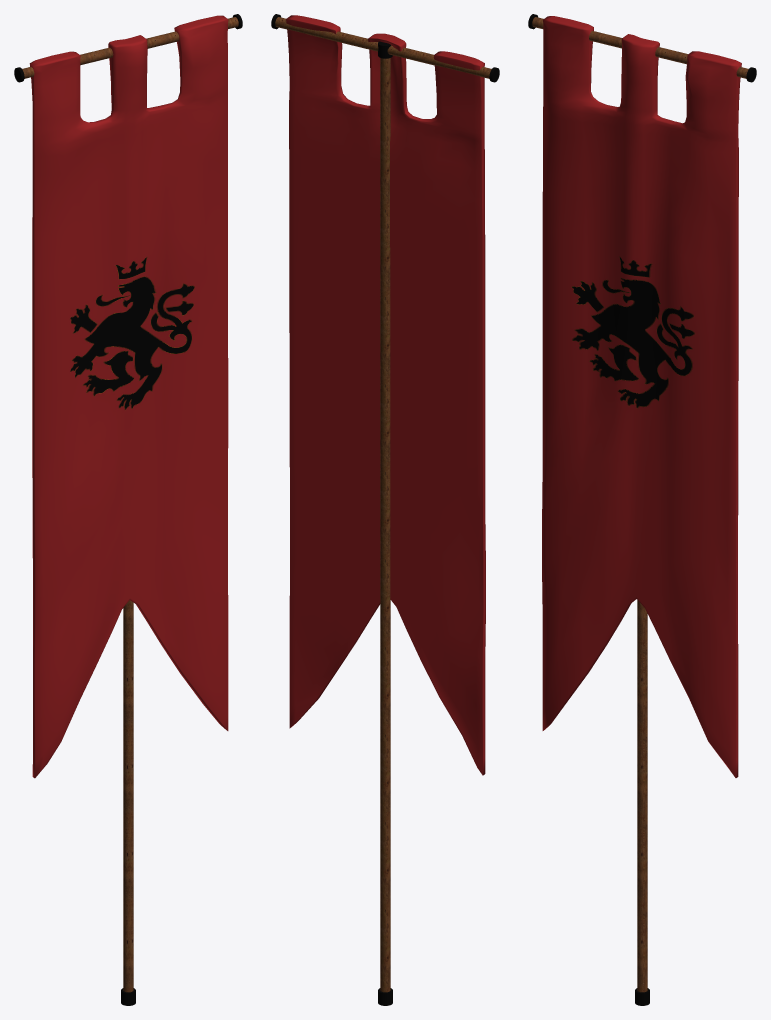
Rendered from main_flag_001.fbx.
3 views of the same model, side by side, from view 1: azimuth 30°, elevation 25°; view 2: azimuth 150°, elevation 25°; view 3: azimuth 330°, elevation 25° (orthographic).
Visible parts, largest first — view 1: cloth3, pCylinder1, flag:building:alexandriaRender:alexandria:pCylinder1; view 2: cloth3, pCylinder1, flag:building:alexandriaRender:alexandria:pCylinder1; view 3: cloth3, pCylinder1, flag:building:alexandriaRender:alexandria:pCylinder1.
Boxes of the visible parts, x1,y1,x2,y2 form: cloth3: [29, 15, 228, 778]; pCylinder1: [121, 600, 135, 1005]; flag:building:alexandriaRender:alexandria:pCylinder1: [14, 14, 242, 82]; cloth3: [286, 15, 485, 775]; pCylinder1: [378, 41, 392, 1005]; flag:building:alexandriaRender:alexandria:pCylinder1: [271, 14, 499, 82]; cloth3: [542, 16, 741, 777]; pCylinder1: [635, 600, 649, 1005]; flag:building:alexandriaRender:alexandria:pCylinder1: [528, 14, 756, 82].
Size of the model in its own units: 135 by 560 by 14.39.
Materials: 4 (3 with a texture image).
